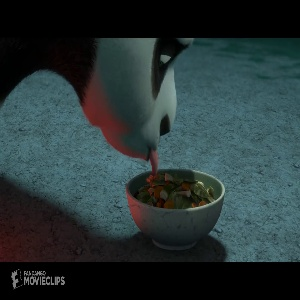po: (65, 37, 198, 178)
